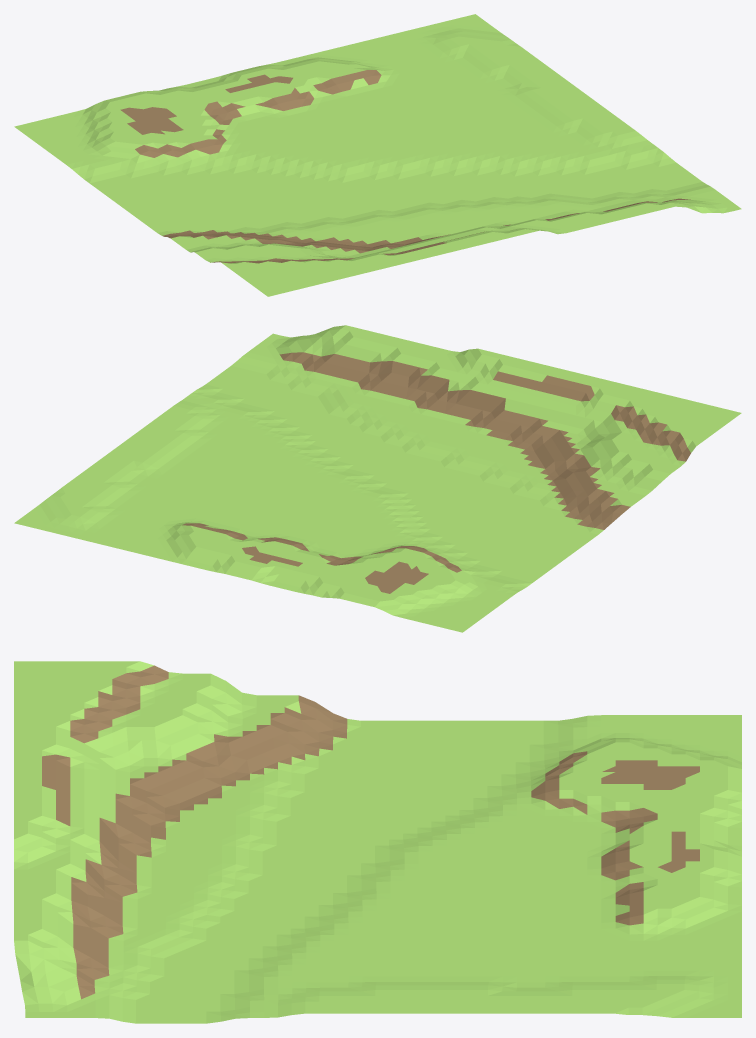
The model's file is FarmArea.fbx.
3 views of the same model, one above another, from view 1: azimuth 30°, elevation 25°; view 2: azimuth 150°, elevation 25°; view 3: azimuth 270°, elevation 25° (orthographic). The views are drawn at different scales.
Visible parts, largest first — view 1: Plane; view 2: Plane; view 3: Plane.
Part boxes in pixels (x1,y1,x2,y2): Plane: [14, 14, 741, 296]; Plane: [14, 325, 741, 632]; Plane: [14, 661, 741, 1023].
Bounding box in the file's own units: 2080 × 146 × 2032.
